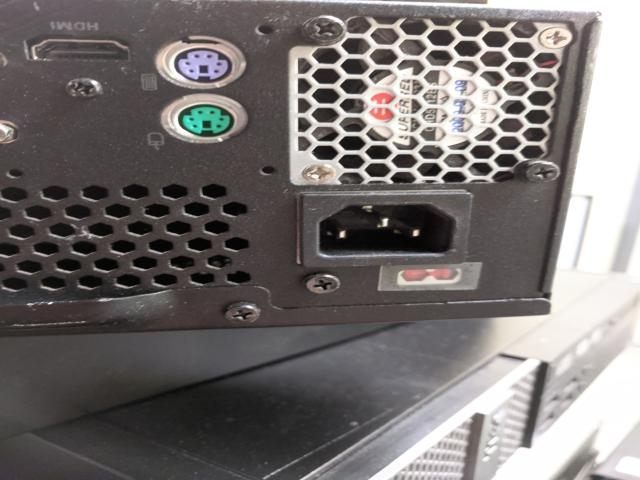CRS: (297, 14, 350, 44), (521, 158, 565, 184), (220, 302, 264, 324), (305, 271, 343, 295), (62, 79, 104, 99), (541, 26, 575, 49), (300, 162, 333, 184)
